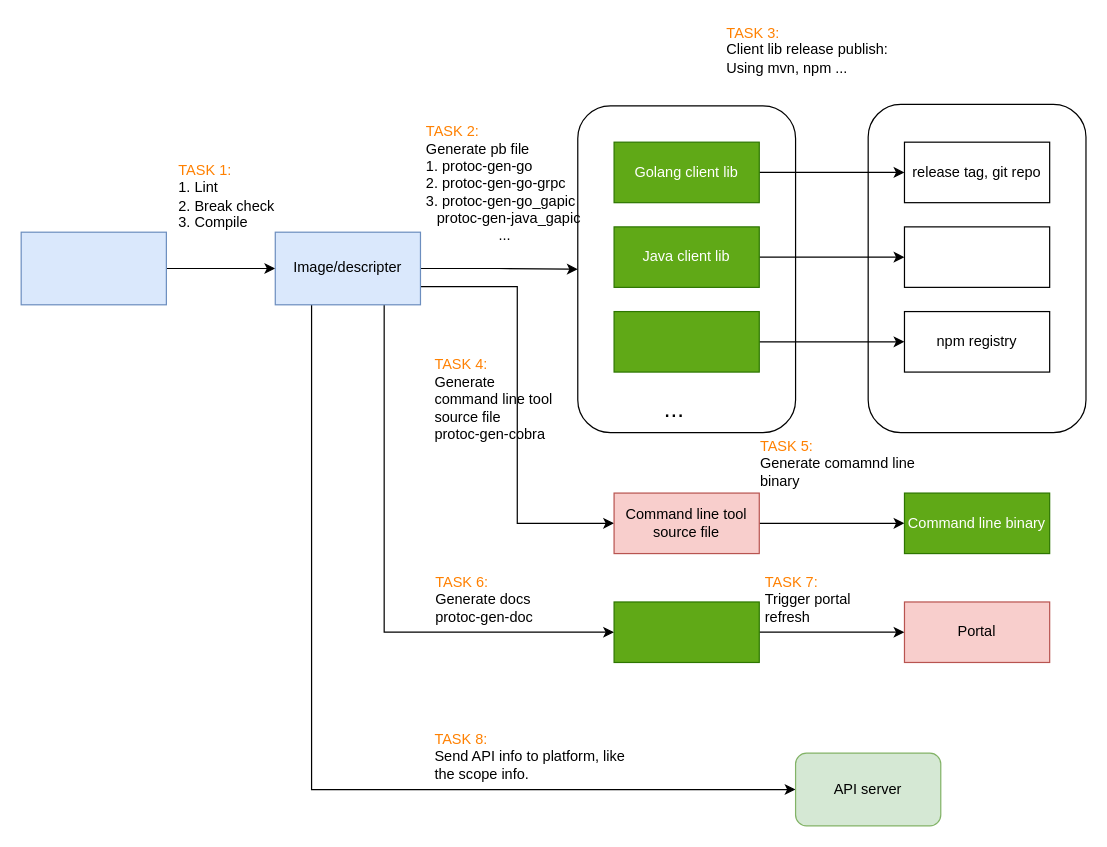
Some shapes in this 1107 by 847 pixel diagram are drawn without their labels. The shapes that lost their labels are listed below. From the top down, each one's centre as x and y in pixels, then its label:
At [93,268]: "Proto define".
At [976,256]: "Mvn repo".
At [686,341]: "Node client lib".
At [686,631]: "Docs".
